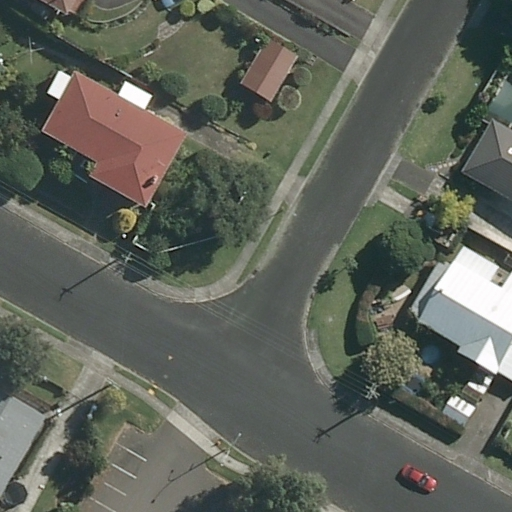DT: (361, 378, 383, 404), (116, 246, 136, 270)
